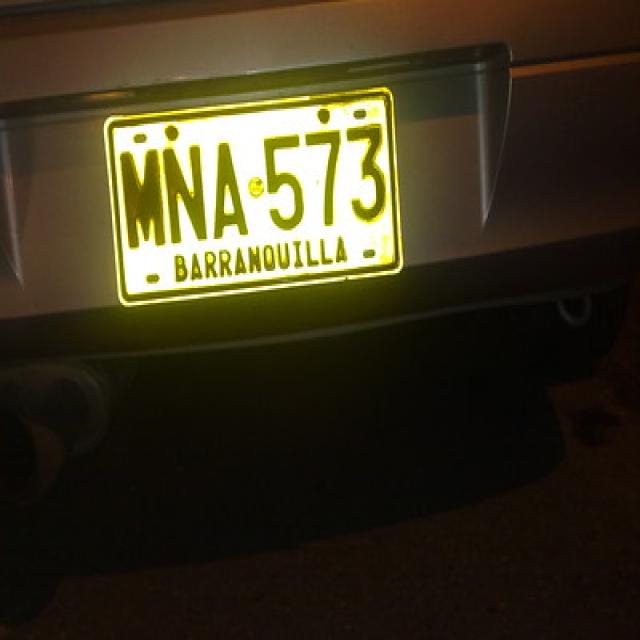placa_carro: (102, 78, 408, 314)
